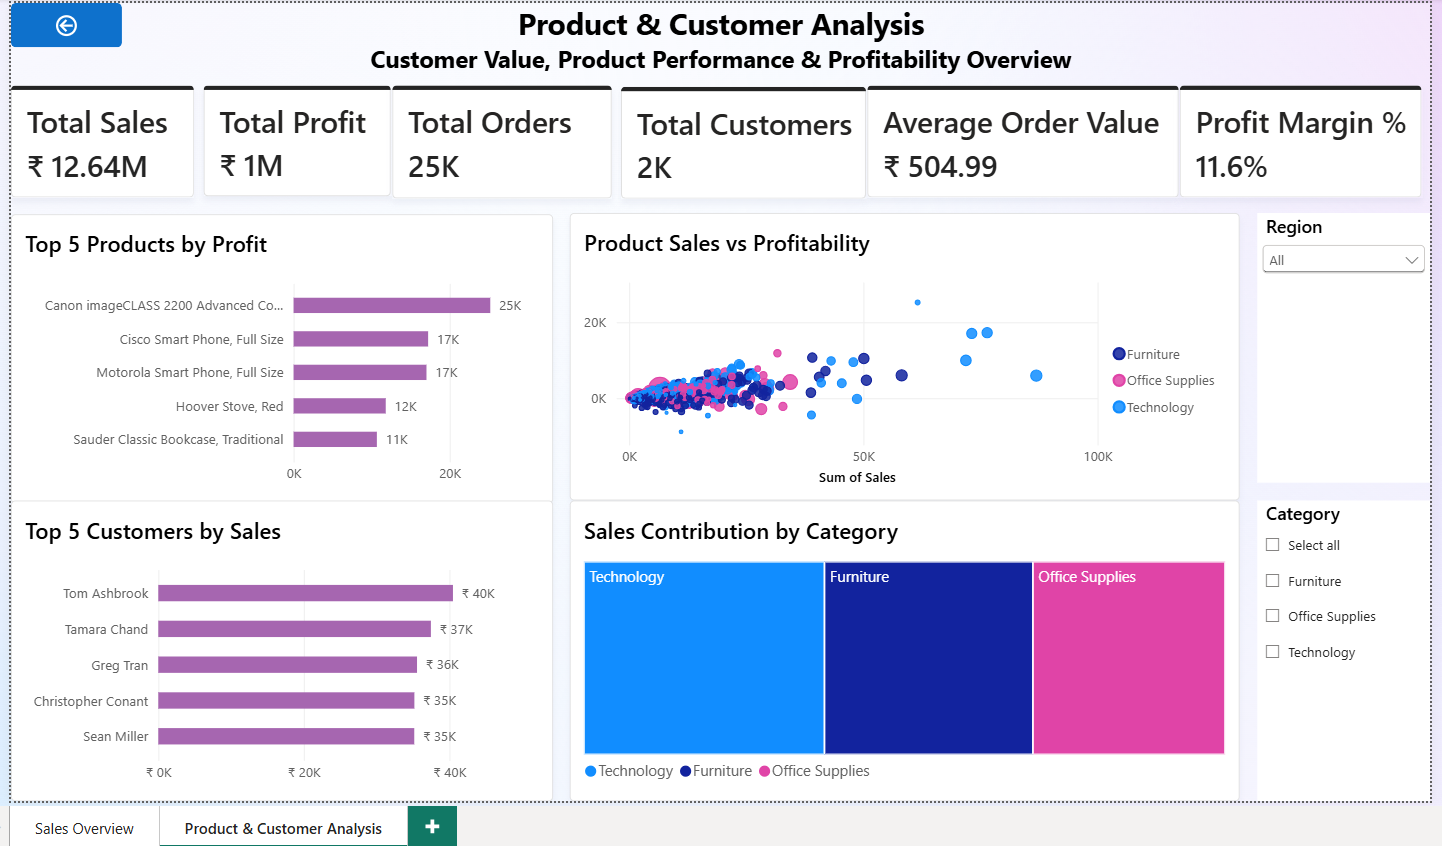

This screenshot's page, from the dashboard's own definition file:
{"tool":"powerbi","page":{"name":"Product & Customer Analysis","canvas":[1280,720],"ordinal":1},"visuals":[{"type":"textbox","box":[0,0,1280.3,74.6],"z":0},{"type":"cardVisual","fields":{"Data":["Orders.Total Sales"]},"box":[0,74.6,165.1,101.5],"z":1000},{"type":"cardVisual","fields":{"Data":["Orders.Total Profit"]},"box":[173.6,74.6,170,100.3],"z":2000},{"type":"cardVisual","fields":{"Data":["Orders.Total Customers"]},"box":[550.3,75.8,221.3,101.5],"z":3000},{"type":"cardVisual","fields":{"Data":["Orders.Average Order Value"]},"box":[771.6,74.6,281.3,101.5],"z":4000},{"type":"cardVisual","fields":{"Data":["Orders.Profit Margin %"]},"box":[1061.4,74.6,218.9,101.5],"z":5000},{"type":"cardVisual","fields":{"Data":["Orders.Total Orders"]},"box":[343.6,74.6,198.1,102.7],"z":6000},{"type":"clusteredBarChart","title":"Top 5 Products by Profit","fields":{"Category":["Orders.Product Name"],"Y":["Orders.Total Profit"]},"box":[0,190.8,489.1,260.5],"z":7000},{"type":"clusteredBarChart","title":"Top 5 Customers by Sales","fields":{"Category":["Orders.Customer Name"],"Y":["Orders.Total Sales"]},"box":[0,448.8,489.1,271.5],"z":8000},{"type":"scatterChart","title":"Product Sales vs Profitability","fields":{"X":["Sum(Orders.Sales)"],"Y":["Sum(Orders.Profit)"],"Category":["Orders.Product Name"],"Series":["Orders.Category"],"Size":["Sum(Orders.Quantity)"]},"box":[503.8,189.5,604.1,259.2],"z":9000},{"type":"treemap","title":"Sales Contribution by Category","fields":{"Group":["Orders.Category"],"Values":["Sum(Orders.Sales)"]},"box":[503.8,448.8,604.1,271.5],"z":10000},{"type":"actionButton","box":[0,0,100,40],"z":11000},{"type":"slicer","fields":{"Values":["Orders.Region"]},"box":[1123.8,189.5,156.5,243.3],"z":12000},{"type":"slicer","fields":{"Values":["Orders.Category"]},"box":[1124,449,156,271],"z":13000}]}

Visuals, with their boxes on the page's 1280x720 design canvas (x1, y1, x2, y2). These are canvas units, not pixel positions in the 1442x846 screenshot, which may show the page scaled, cropped or inside an application window:
textbox: 0, 0, 1280, 75
cardVisual - Orders.Total Sales: 0, 75, 165, 176
cardVisual - Orders.Total Profit: 174, 75, 344, 175
cardVisual - Orders.Total Customers: 550, 76, 772, 177
cardVisual - Orders.Average Order Value: 772, 75, 1053, 176
cardVisual - Orders.Profit Margin %: 1061, 75, 1280, 176
cardVisual - Orders.Total Orders: 344, 75, 542, 177
"Top 5 Products by Profit" clusteredBarChart: 0, 191, 489, 451
"Top 5 Customers by Sales" clusteredBarChart: 0, 449, 489, 720
"Product Sales vs Profitability" scatterChart: 504, 190, 1108, 449
"Sales Contribution by Category" treemap: 504, 449, 1108, 720
actionButton: 0, 0, 100, 40
slicer - Orders.Region: 1124, 190, 1280, 433
slicer - Orders.Category: 1124, 449, 1280, 720
